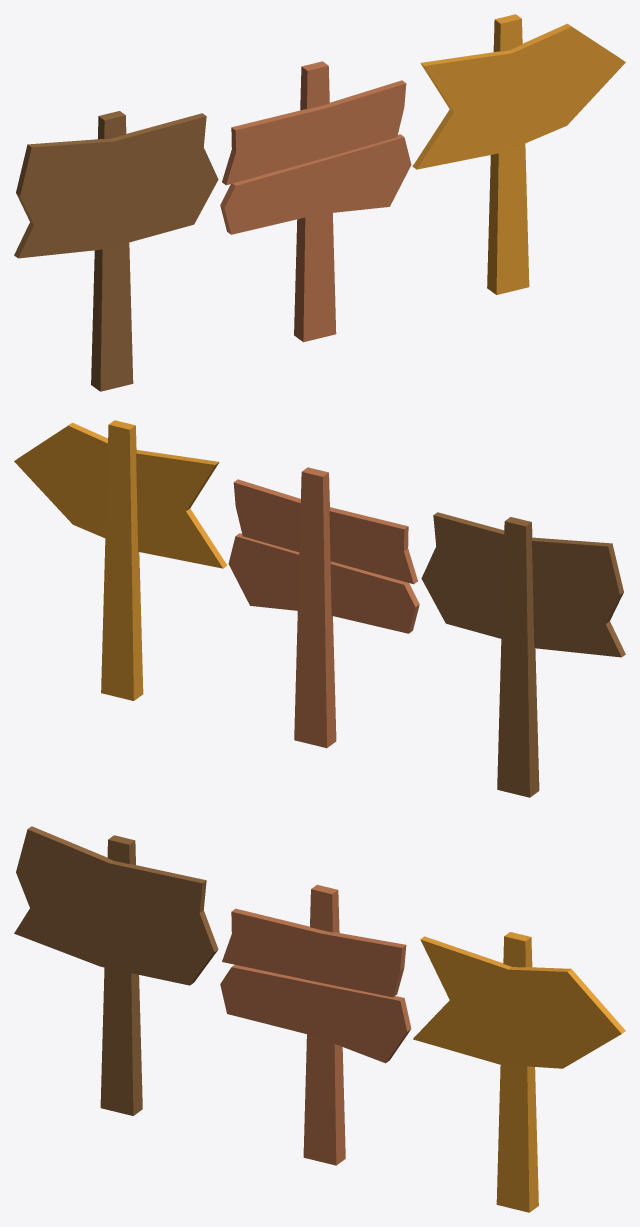
The model's file is wood signs.fbx.
3 renders of one model, top to bottom at view 1: azimuth 30°, elevation 25°; view 2: azimuth 150°, elevation 25°; view 3: azimuth 330°, elevation 25°, orthographic.
Parts seen in each view (by area): view 1: sign1, sign2, sign3; view 2: sign1, sign2, sign3; view 3: sign1, sign2, sign3.
Part boxes in pixels (x1,y1,x2,y2): sign1: (14,111,218,391); sign2: (220,61,411,342); sign3: (412,14,625,294); sign1: (421,512,625,797); sign2: (228,467,419,748); sign3: (14,420,227,700); sign1: (14,826,218,1115); sign2: (220,884,411,1165); sign3: (413,932,625,1212).
Bounding box in the file's own units: 406 × 172 × 13.44.
